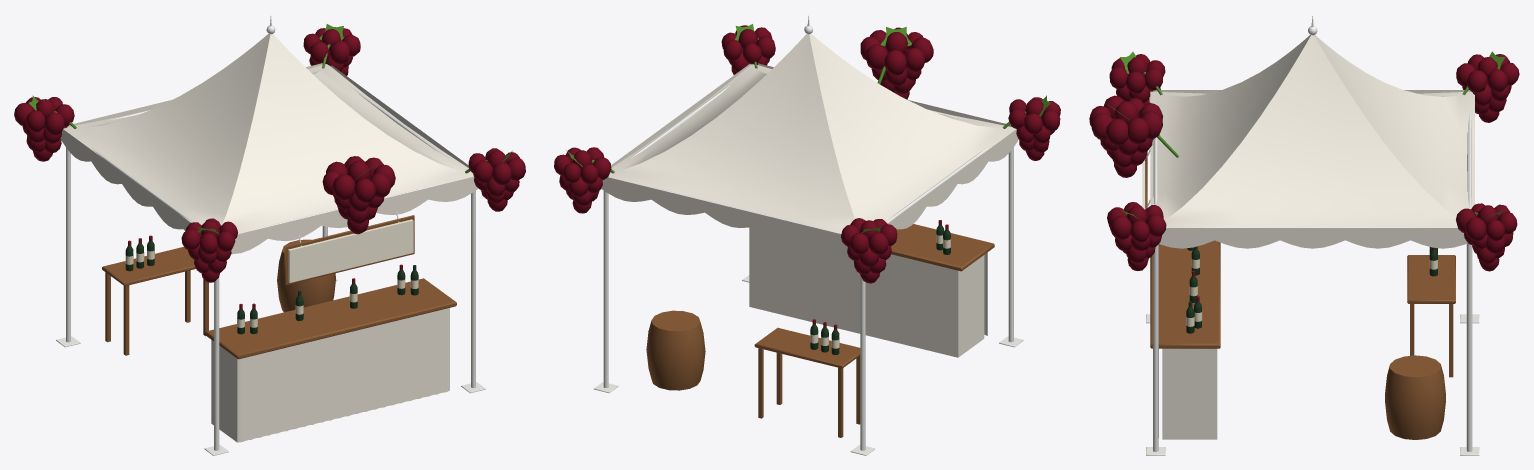
The model's file is wine_tent.glb.
The picture shows the model from 3 angles, left to right: view 1: azimuth 30°, elevation 25°; view 2: azimuth 150°, elevation 25°; view 3: azimuth 270°, elevation 25°; orthographic projection. The views are drawn at different scales.
Parts seen in each view (by area): view 1: Canopy, Counter, Balloons, Frame, SignBoard, Bottles; view 2: Canopy, Counter, Balloons, Frame, Bottles, Leaves; view 3: Canopy, Counter, Balloons, Frame, Bottles, Leaves.
Part boxes in pixels (x1,y1,x2,y2): Canopy: (60, 33, 478, 254); Counter: (102, 239, 456, 442); Balloons: (14, 28, 525, 282); Frame: (56, 16, 485, 455); SignBoard: (288, 219, 413, 282); Bottles: (125, 235, 418, 334); Canopy: (601, 34, 1018, 254); Counter: (646, 224, 994, 437); Balloons: (554, 25, 1060, 283); Frame: (594, 15, 1023, 455); Bottles: (810, 220, 950, 354); Leaves: (566, 24, 1051, 233); Canopy: (1149, 35, 1474, 248); Counter: (1150, 240, 1455, 439); Balloons: (1089, 54, 1519, 271); Frame: (1145, 16, 1479, 455); Bottles: (1186, 246, 1437, 333); Leaves: (1109, 51, 1505, 220).
Bounding box in the file's own units: 3.81 × 3.79 × 3.97.
